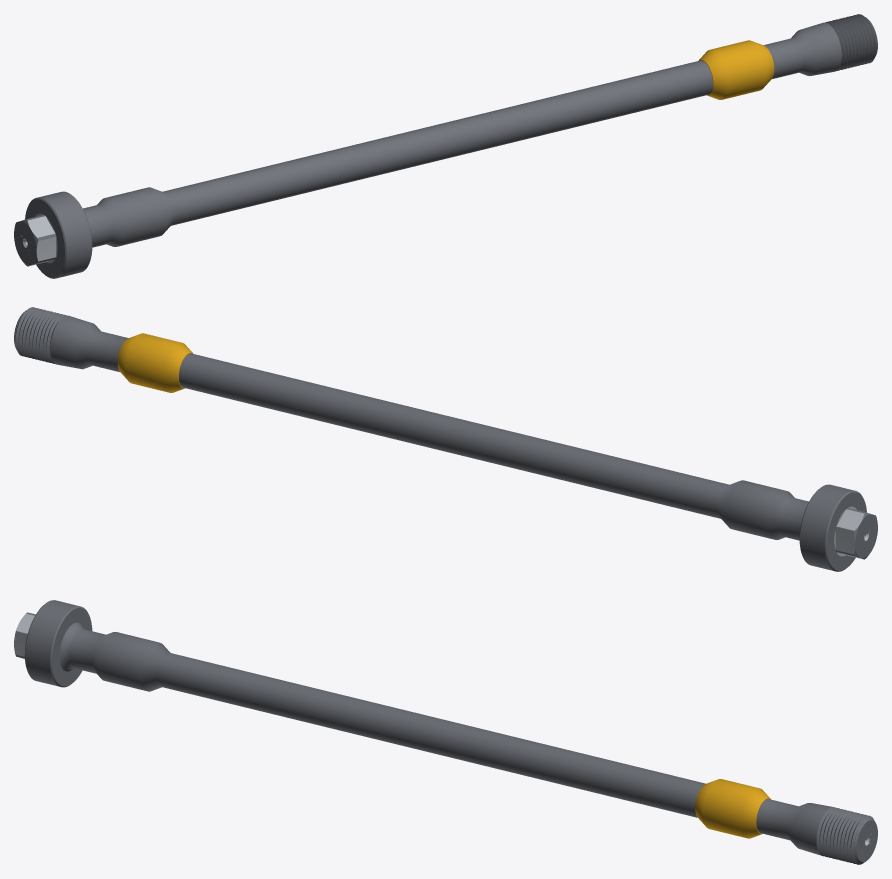
The model's file is saplama-mtb-85-06.glb.
The picture shows the model from 3 angles, top to bottom: view 1: azimuth 30°, elevation 25°; view 2: azimuth 150°, elevation 25°; view 3: azimuth 330°, elevation 25°; orthographic projection.
Visible parts, largest first — view 1: body (×2); view 2: body (×2); view 3: body (×2).
Part boxes in pixels (x1=…): body (×2): x1=14, y1=14, x2=877, y2=278; body (×2): x1=14, y1=307, x2=877, y2=571; body (×2): x1=14, y1=600, x2=877, y2=864.
Size of the model in its own units: 0.772 by 0.066 by 0.066.
